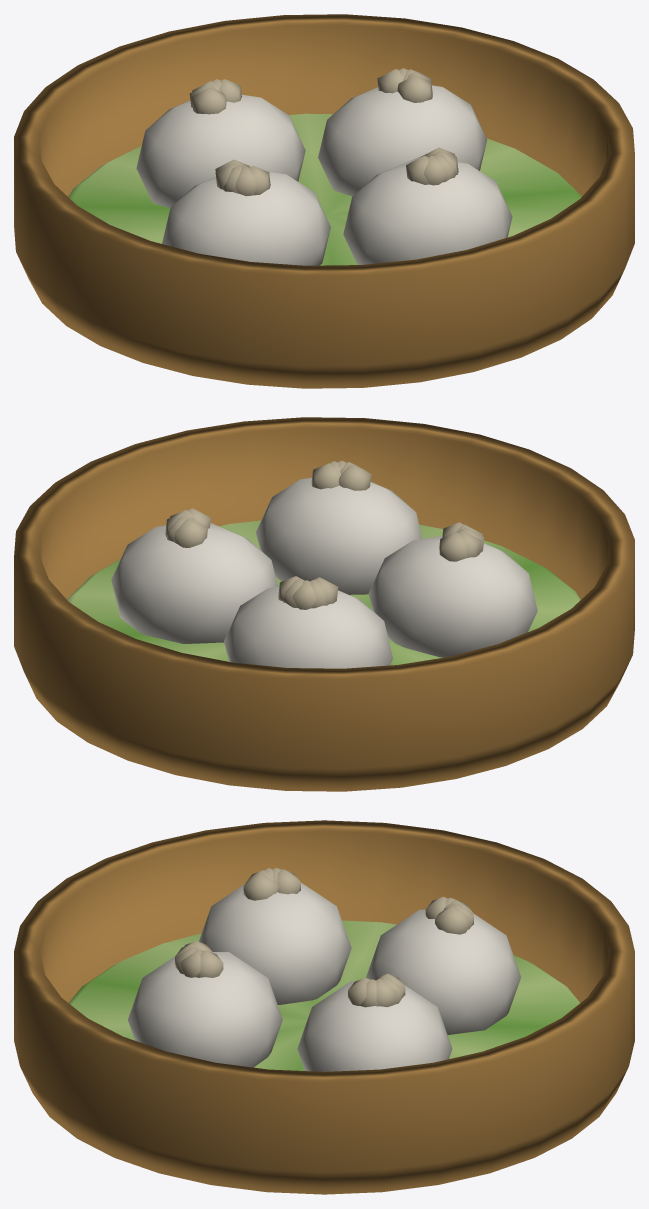
File: item_dish_dumplings.glb
The picture shows the model from 3 angles, top to bottom: view 1: azimuth 30°, elevation 25°; view 2: azimuth 150°, elevation 25°; view 3: azimuth 270°, elevation 25°; orthographic projection.
Parts seen in each view (by area): view 1: item_dish_dumplings_main; view 2: item_dish_dumplings_main; view 3: item_dish_dumplings_main.
Part boxes in pixels (x1=…): item_dish_dumplings_main: x1=14, y1=14, x2=634, y2=388; item_dish_dumplings_main: x1=14, y1=417, x2=634, y2=791; item_dish_dumplings_main: x1=14, y1=820, x2=634, y2=1194.
Size of the model in its own units: 0.24 by 0.062 by 0.24.
